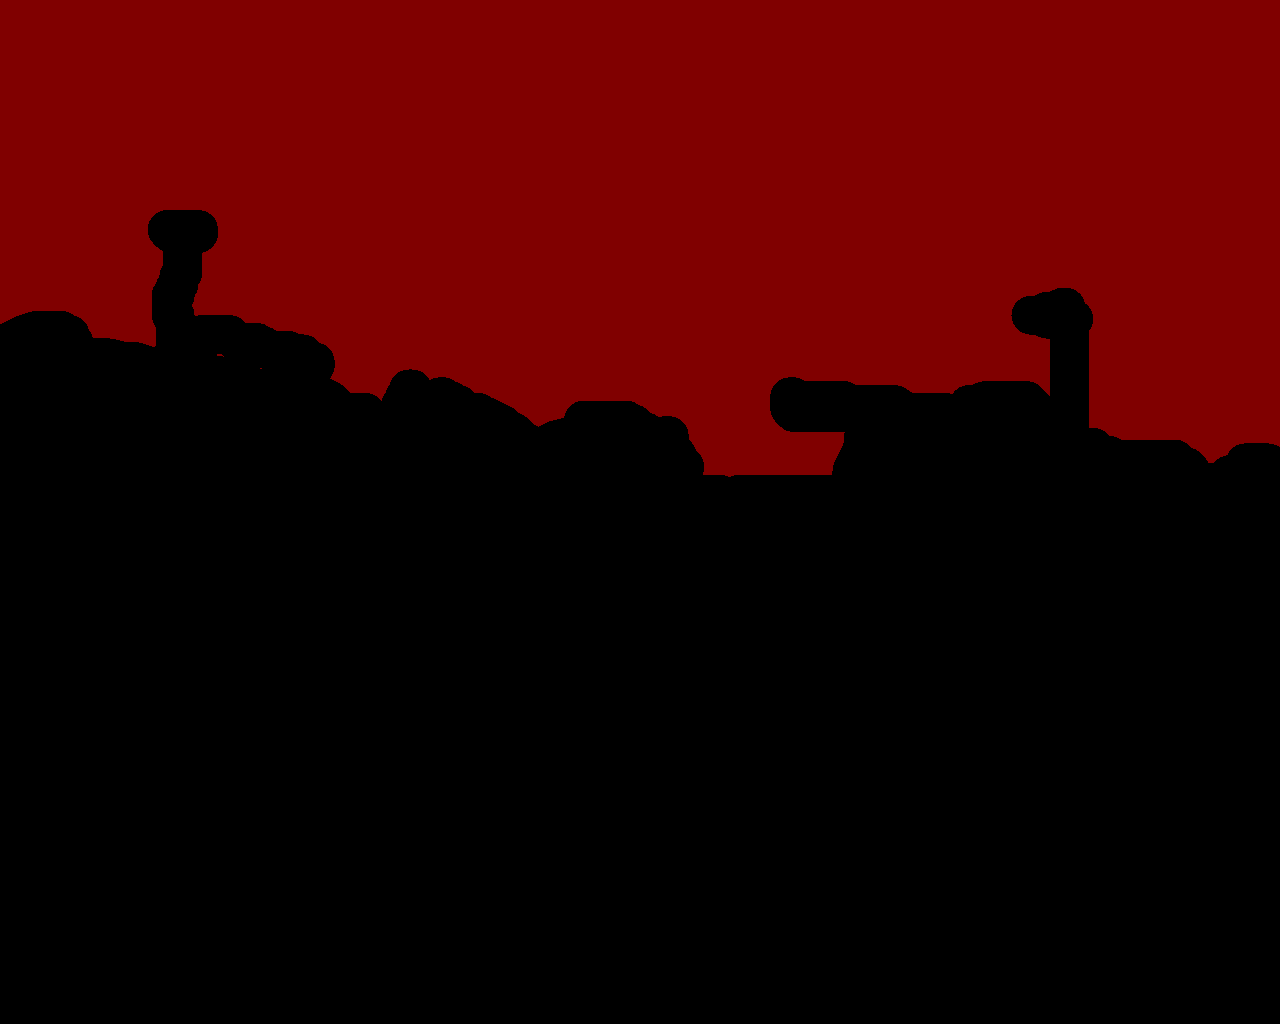Sky: (1, 1, 1279, 478)
